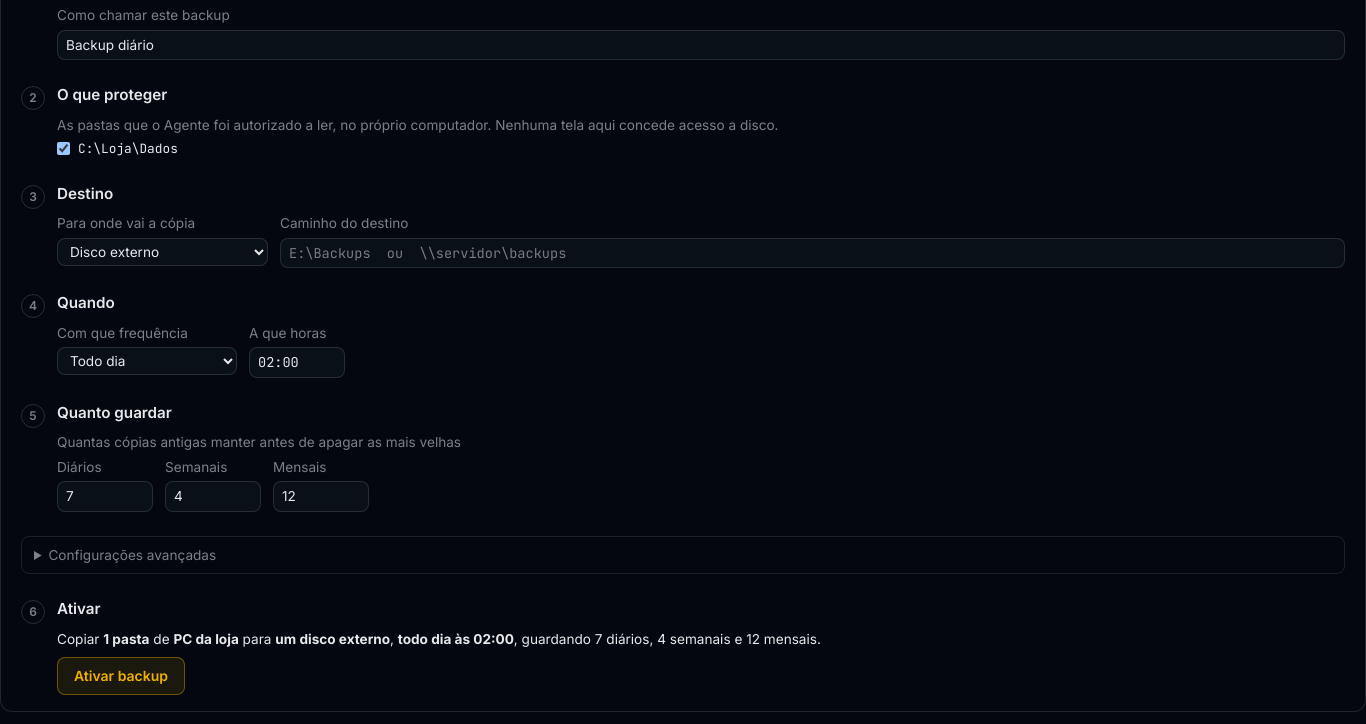
Políticas de backup › máquina desligada: diz que vai valer, e não que está valendo
(page scrolled)
Check: the text "C:\\Loja\\Dados" is shown, box [78,139,178,158]
Click the button "Ativar backup" at (121, 676), box [57,657,185,695]
(page scrolled)
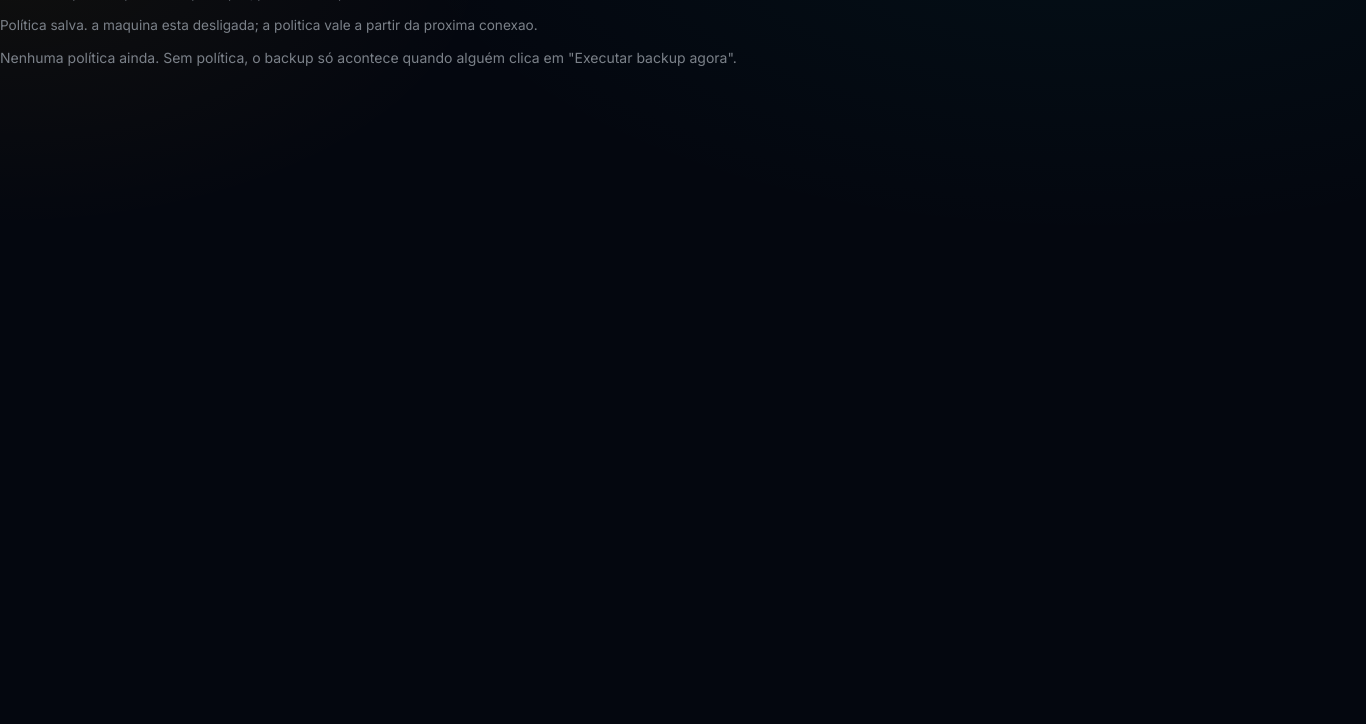
Check: the text "proxima conexao" is shown, box [0,17,538,33]
